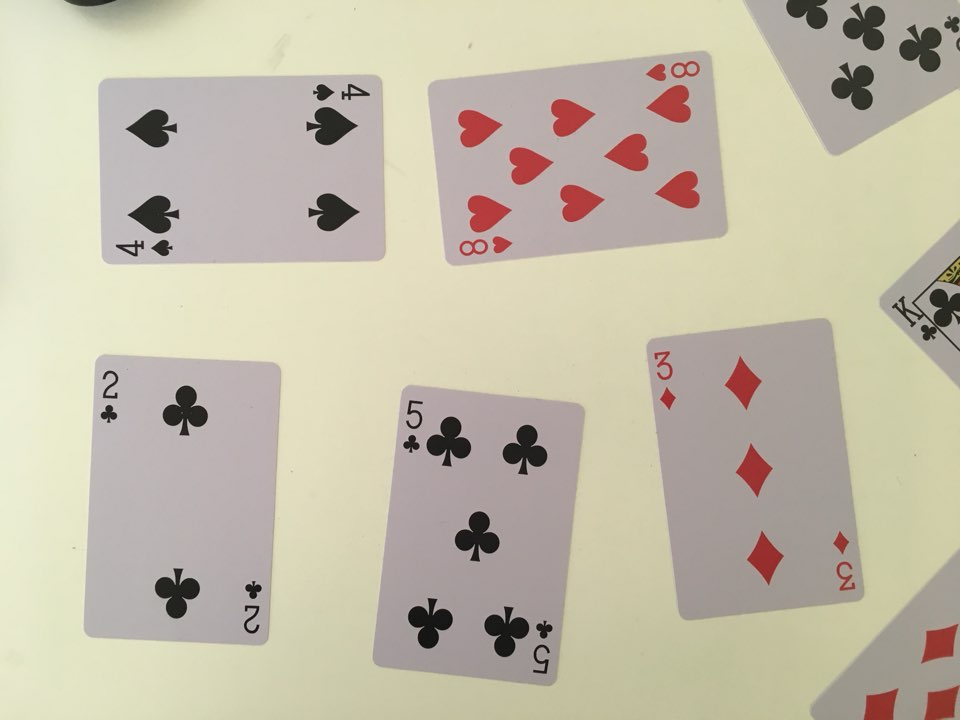king: (875, 206, 960, 433)
